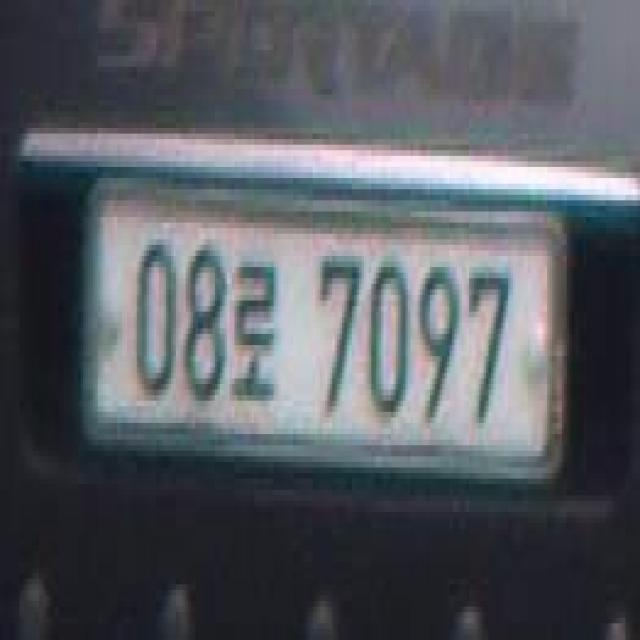illegal_plate: (82, 165, 562, 500)
